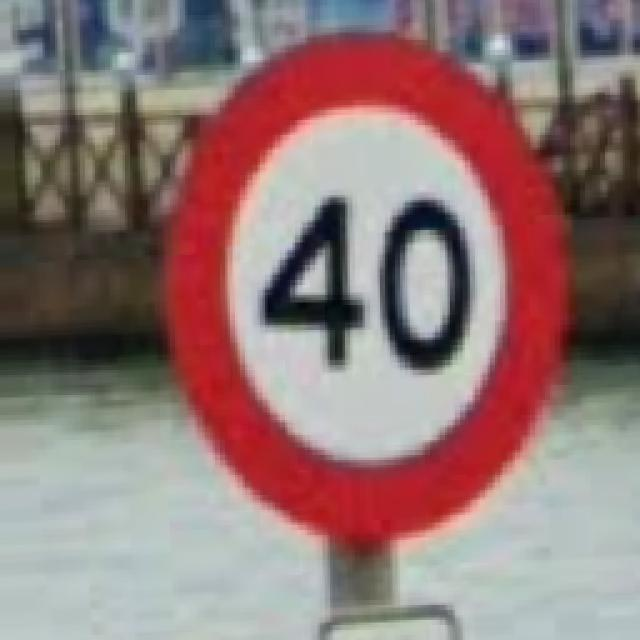Speed Limit -40-: (168, 38, 562, 545)
